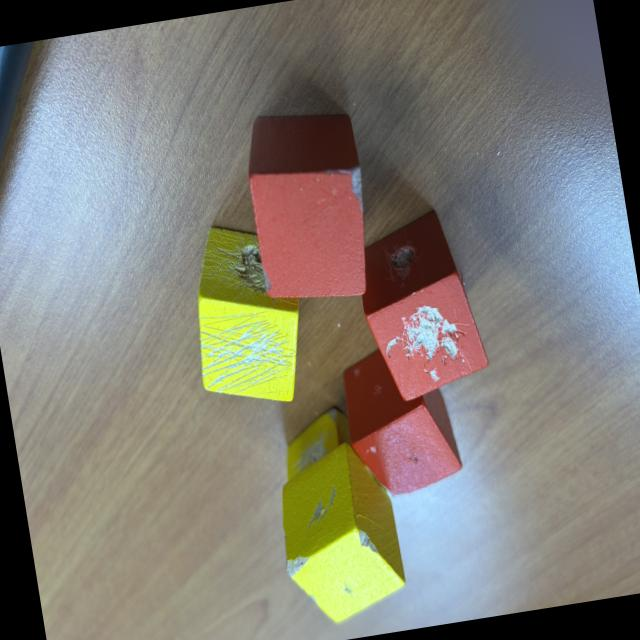broken: (236, 102, 378, 311), (350, 204, 492, 406), (270, 436, 410, 630), (180, 216, 314, 410), (338, 334, 464, 500), (278, 402, 387, 522)
